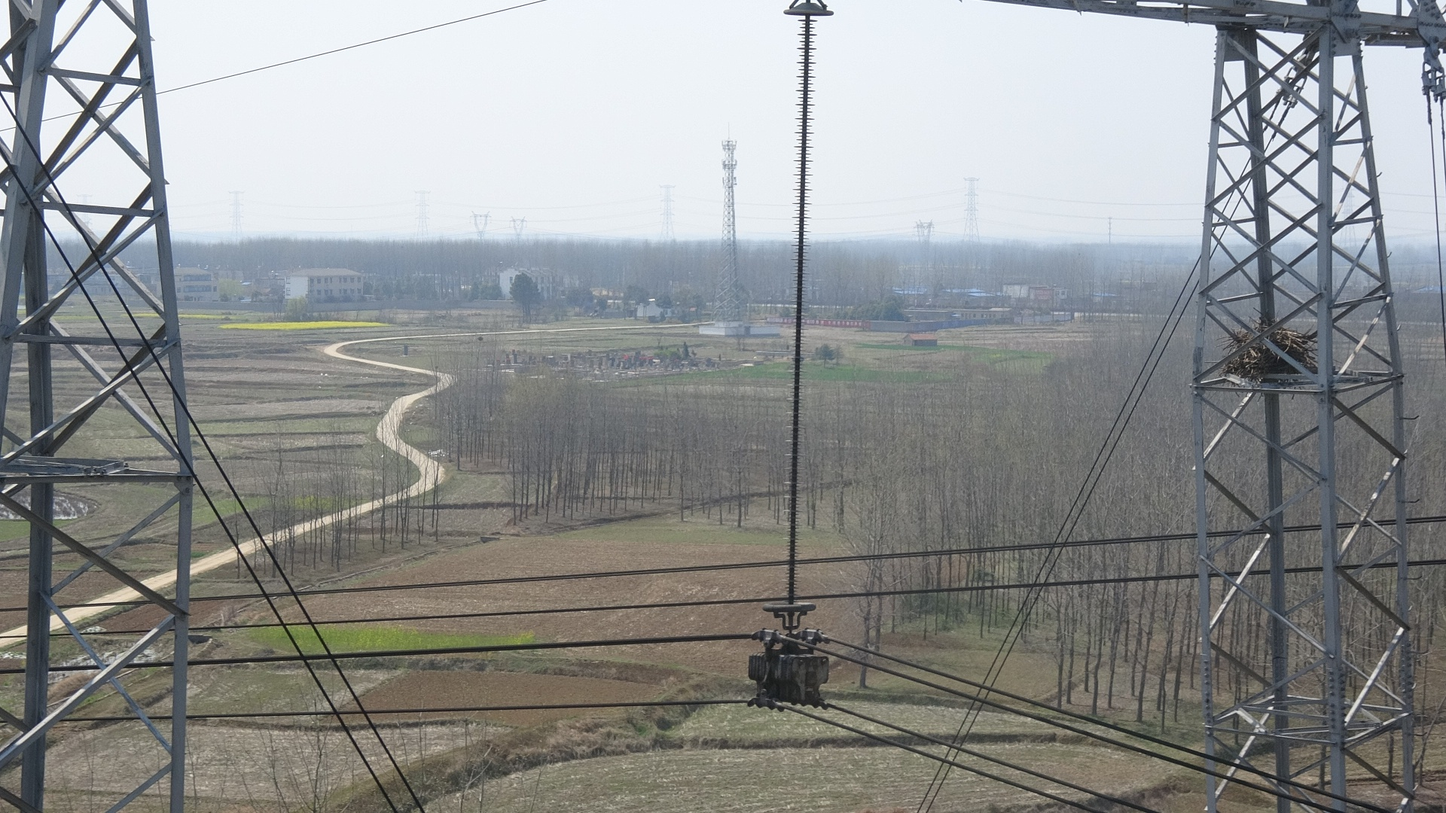insulator: (779, 17, 820, 606)
